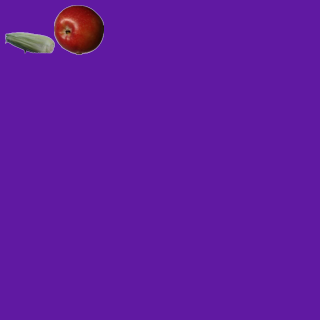Apple Braeburn: (53, 4, 103, 54)
Corn Husk: (4, 17, 54, 67)
